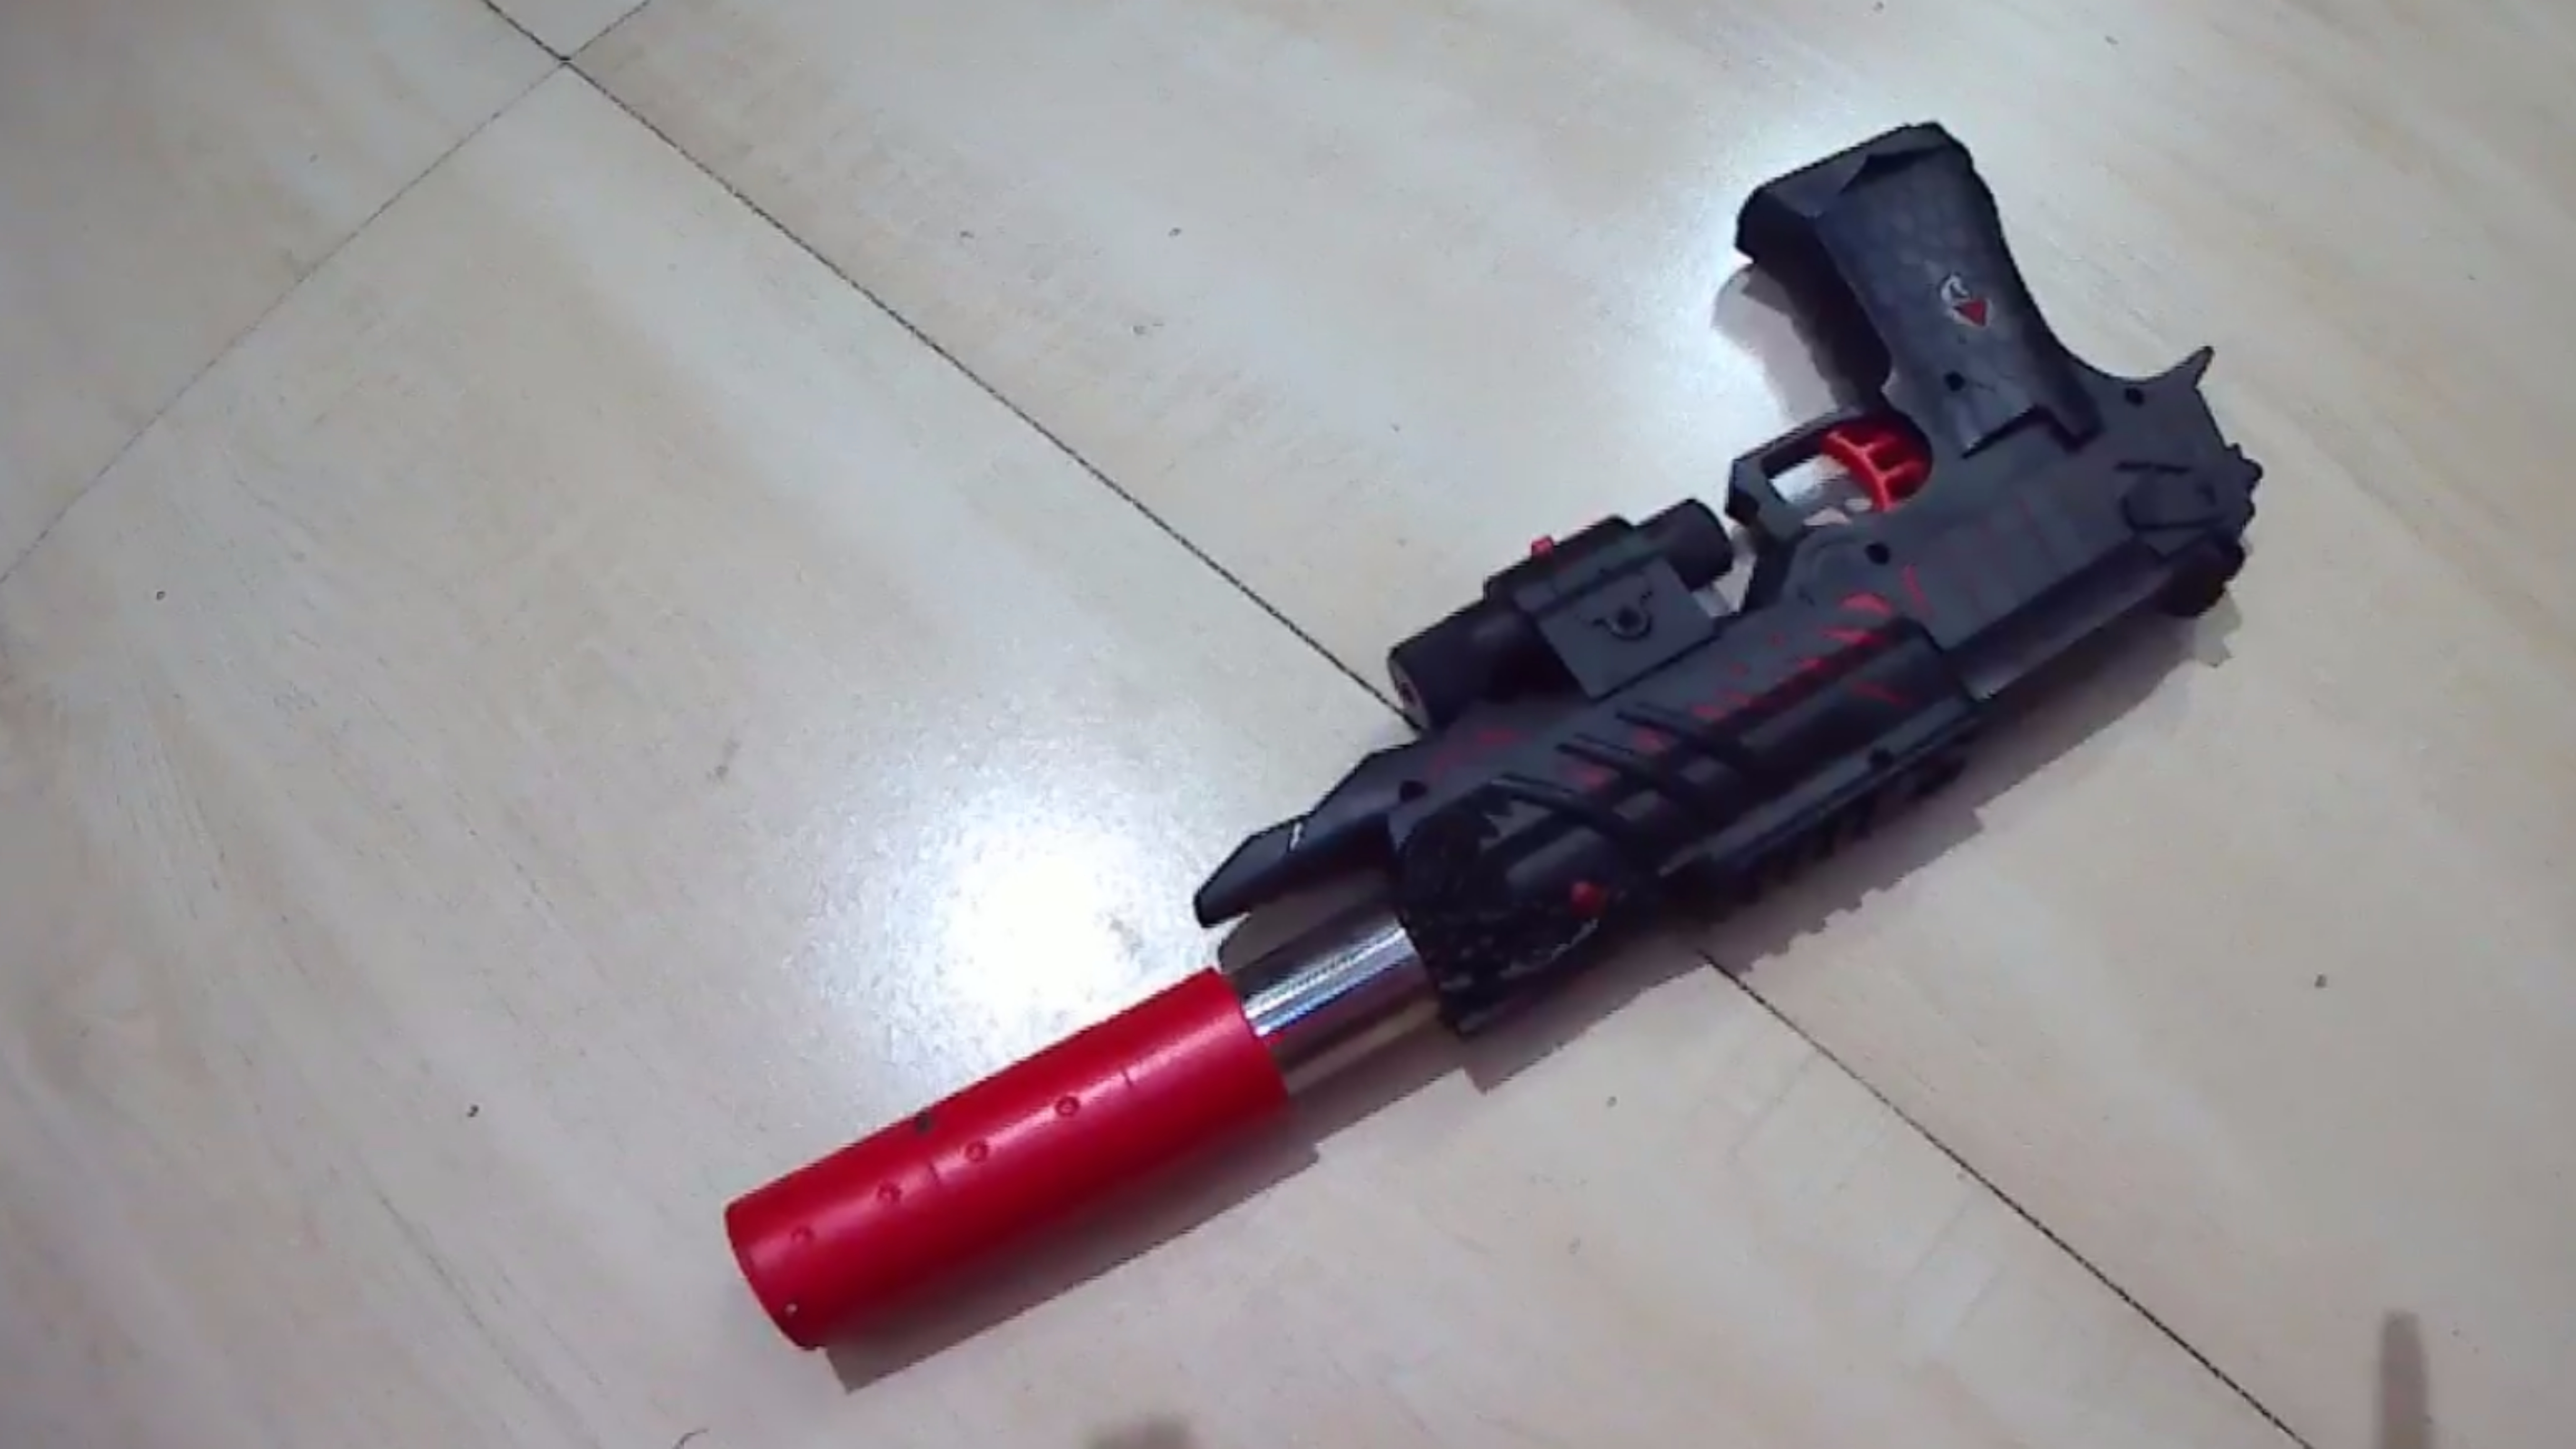handgun: (697, 119, 2270, 1392)
